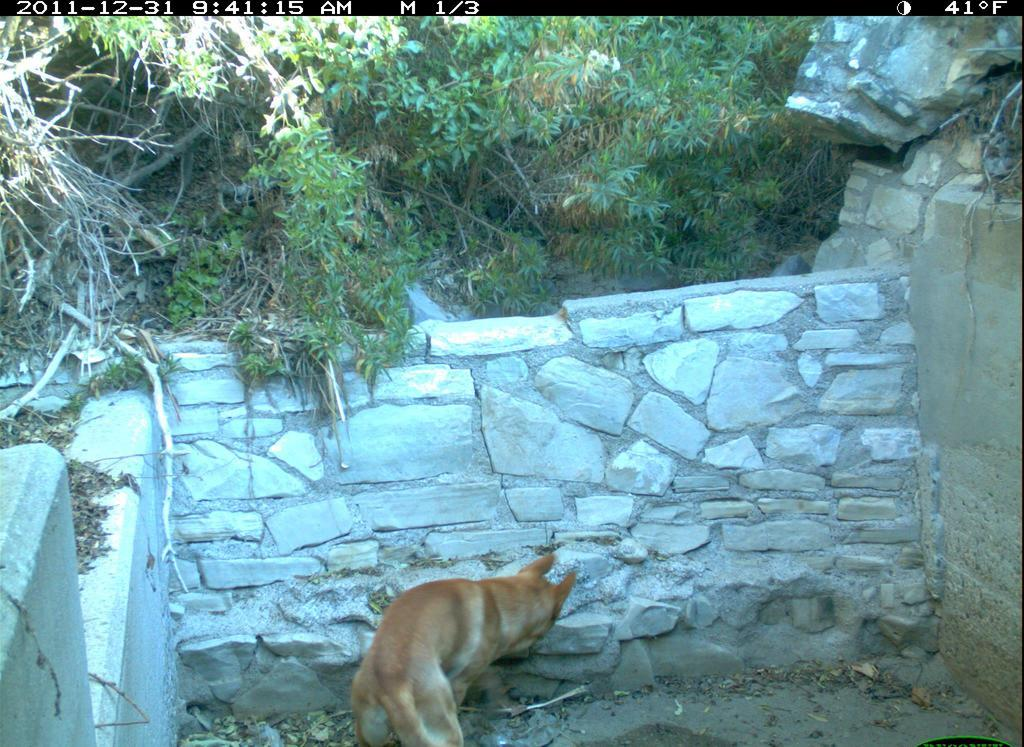dog: (345, 555, 584, 744)
